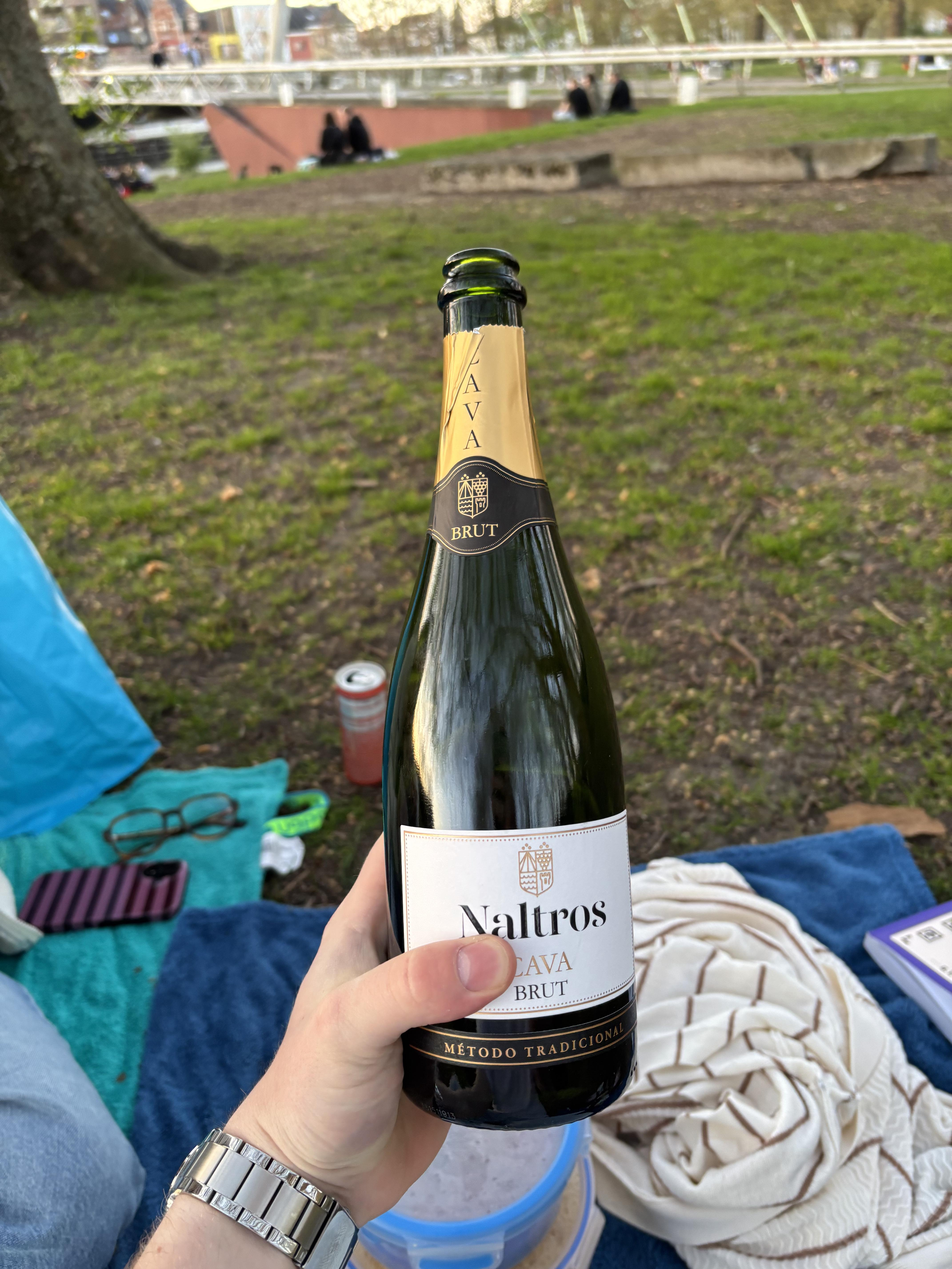Cardboard: (847, 877, 952, 1041)
Glass: (384, 244, 637, 1140)
Metal: (318, 655, 392, 787)
Plastic: (336, 1097, 629, 1269)
